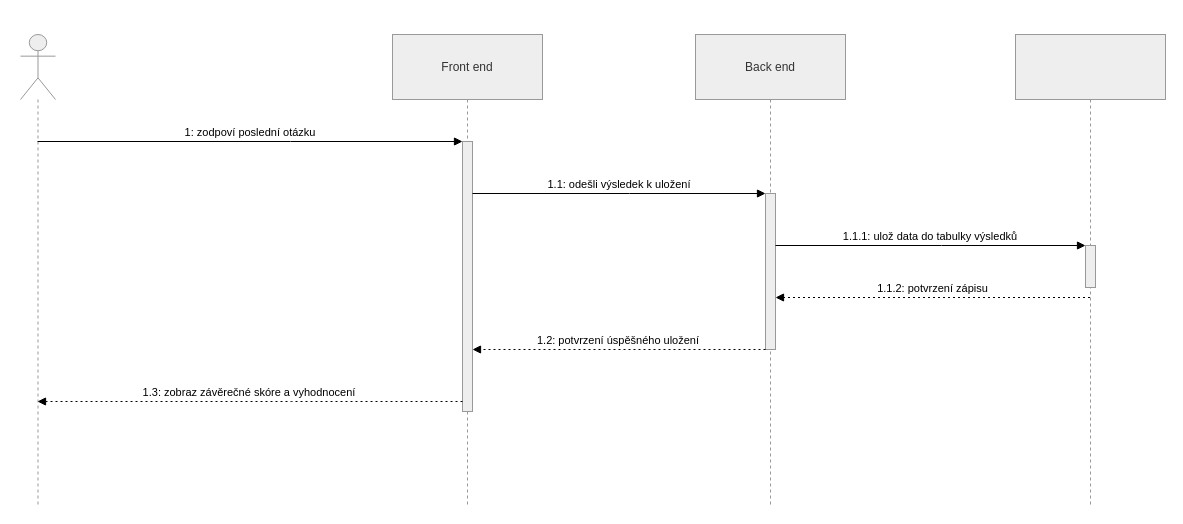
The diagram is 1183 pixels wide and 524 high, and some of its shapes have lost their labels. The shapes that lost their labels are listed below. From the top down, each one's box as (x1, y1, x2, y2) in pixels, then its label:
(20, 34, 56, 506): Student
(1014, 34, 1166, 506): DB
